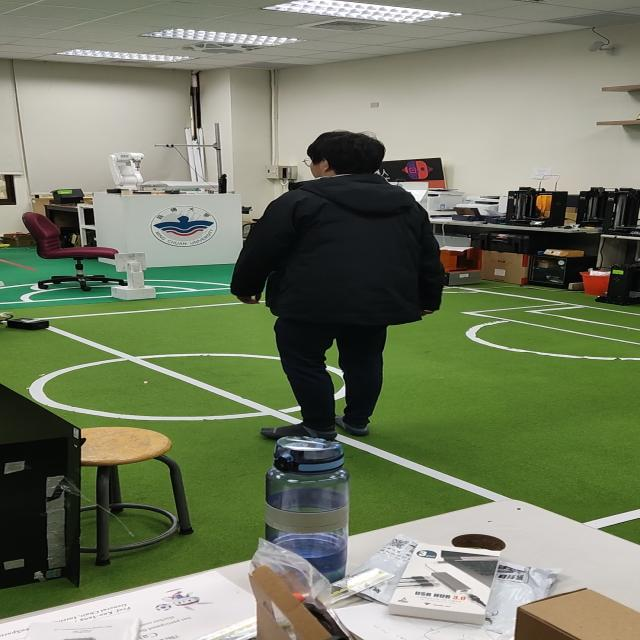person: (230, 116, 450, 430)
